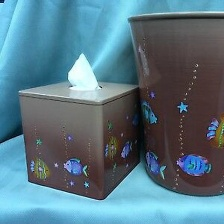plastic_box: (120, 5, 224, 202), (12, 75, 146, 205)
tissue: (62, 48, 104, 94)
